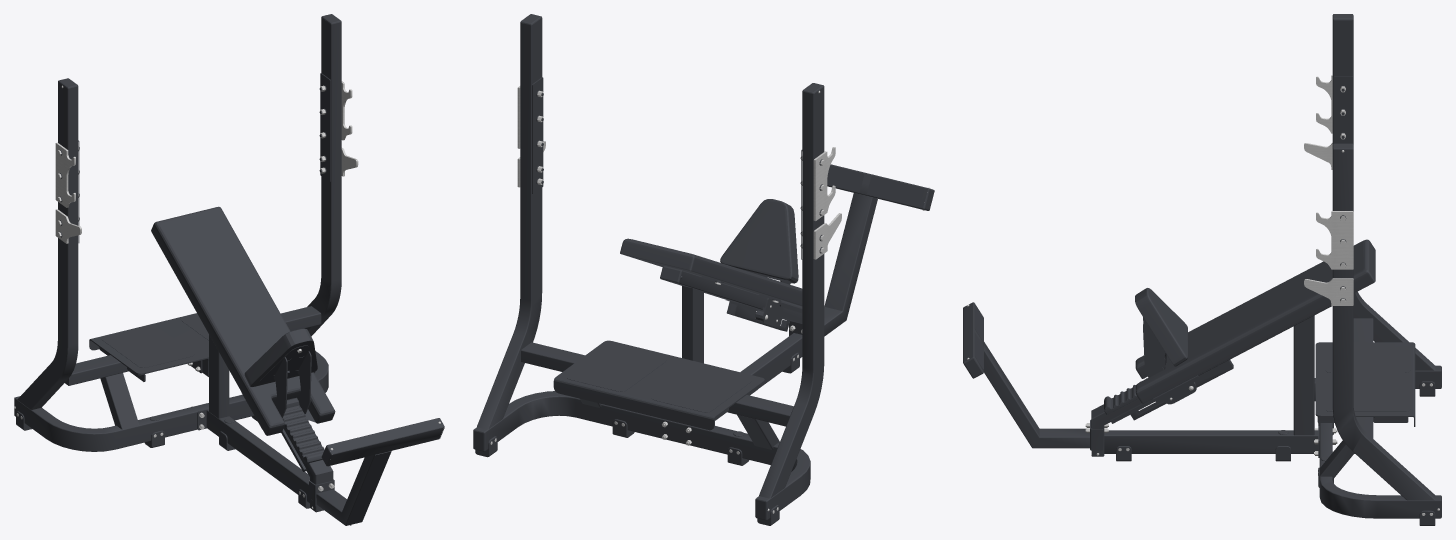
Rendered from olympic-incline-bench-neon.glb.
3 views of the same model, side by side, from view 1: azimuth 30°, elevation 25°; view 2: azimuth 150°, elevation 25°; view 3: azimuth 270°, elevation 25° (orthographic). The views are drawn at different scales.
Visible parts, largest first — view 1: Mesh_1, Mesh_7, Mesh_0, Mesh_3; view 2: Mesh_1, Mesh_0, Mesh_7, Mesh_3; view 3: Mesh_1, Mesh_7, Mesh_0, Mesh_3, Mesh_4.
Part boxes in pixels (x1=…): Mesh_1: x1=14, y1=18, x2=444, y2=525; Mesh_7: x1=151, y1=206, x2=335, y2=435; Mesh_0: x1=14, y1=14, x2=444, y2=512; Mesh_3: x1=14, y1=81, x2=440, y2=508; Mesh_1: x1=474, y1=18, x2=928, y2=525; Mesh_0: x1=473, y1=14, x2=934, y2=520; Mesh_7: x1=620, y1=199, x2=802, y2=306; Mesh_3: x1=490, y1=86, x2=930, y2=513; Mesh_1: x1=963, y1=15, x2=1440, y2=525; Mesh_7: x1=1135, y1=239, x2=1375, y2=403; Mesh_0: x1=963, y1=14, x2=1441, y2=517; Mesh_3: x1=967, y1=75, x2=1439, y2=515; Mesh_4: x1=1153, y1=375, x2=1408, y2=422.
Bounding box in the file's own units: 1.27 × 1.6 × 1.84.
Materials: 3 (1 with a texture image).
